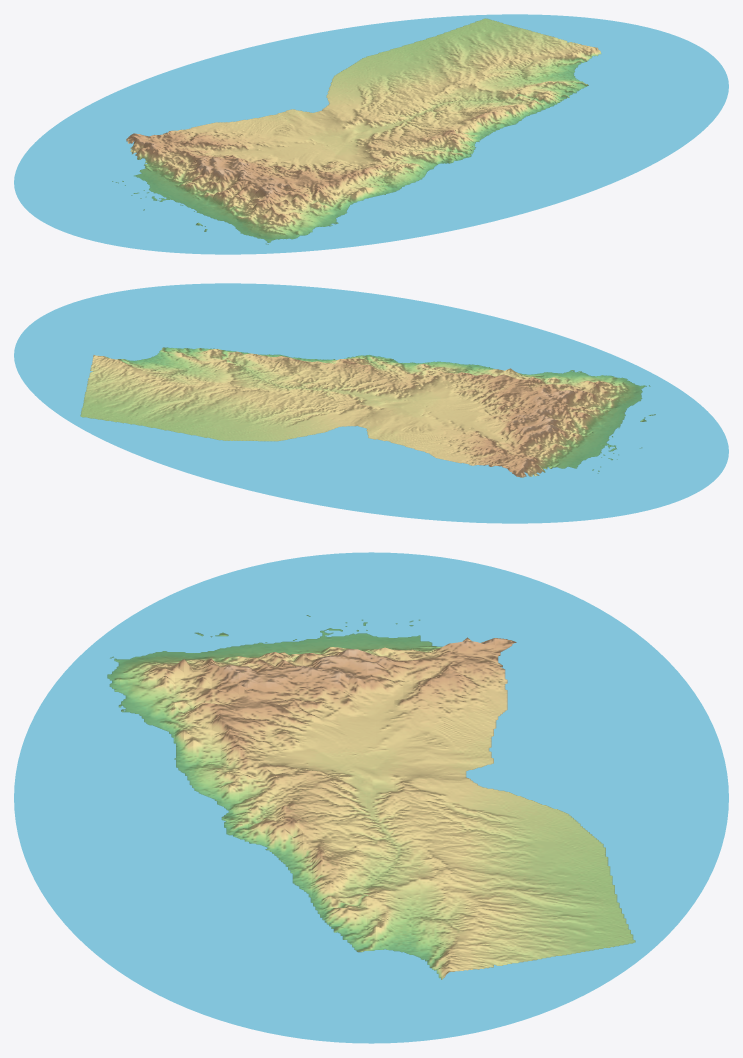
The model's file is YEM-terrain.glb.
The picture shows the model from 3 angles, top to bottom: view 1: azimuth 30°, elevation 25°; view 2: azimuth 150°, elevation 25°; view 3: azimuth 270°, elevation 25°; orthographic projection. The views are drawn at different scales.
Parts seen in each view (by area): view 1: Relevo com hidrografia; view 2: Relevo com hidrografia; view 3: Relevo com hidrografia.
Part boxes in pixels (left/top/right/bottom): Relevo com hidrografia: left=14, top=14, right=728, bottom=254; Relevo com hidrografia: left=14, top=283, right=728, bottom=523; Relevo com hidrografia: left=14, top=552, right=728, bottom=1043.
Bounding box in the file's own units: 2.15 × 0.0471 × 1.32.
Materials: 2 (1 with a texture image).
